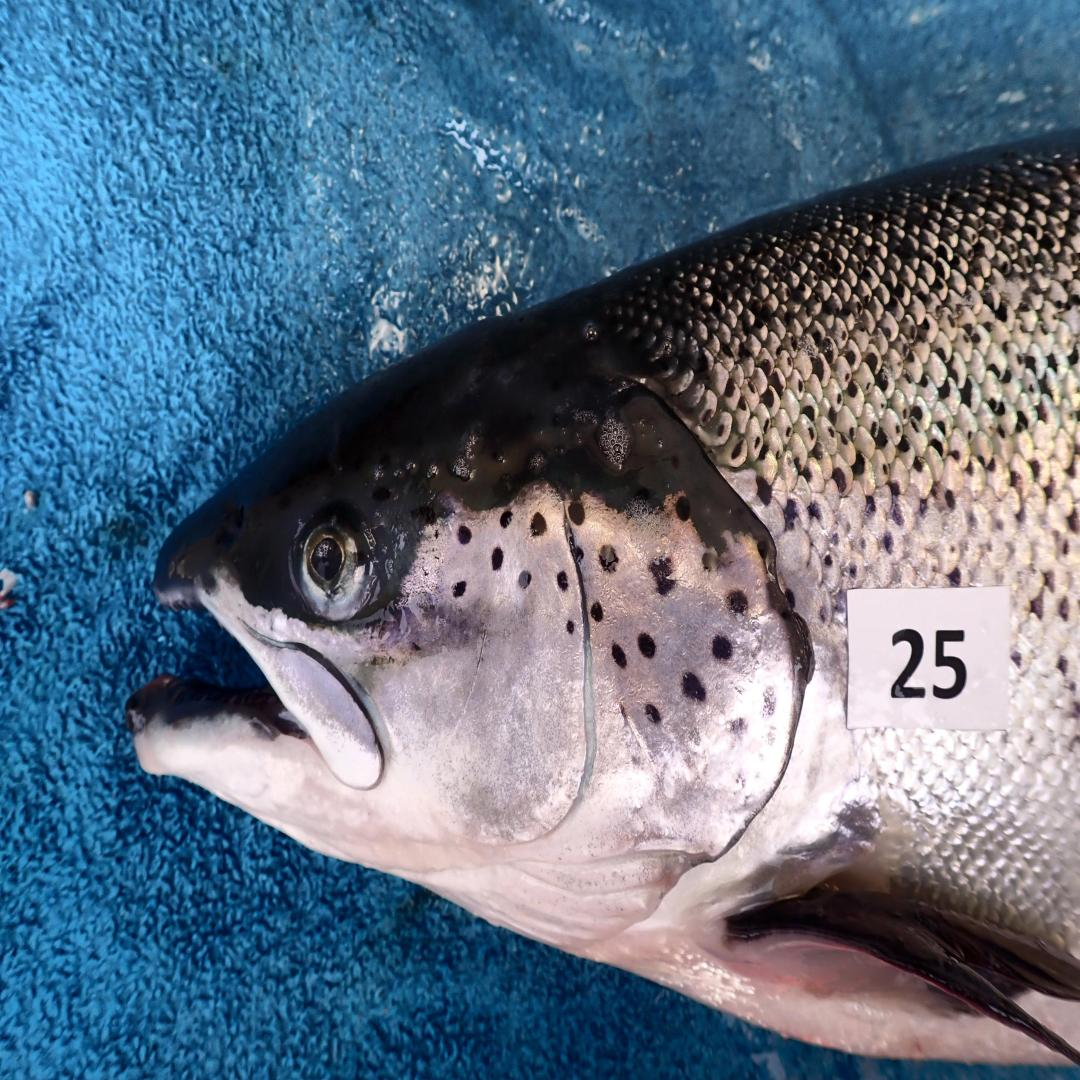spot: (650, 557, 675, 596), (681, 672, 707, 700), (701, 551, 732, 569), (713, 636, 732, 661), (637, 633, 656, 658), (599, 546, 618, 571), (728, 591, 749, 613), (567, 501, 584, 526), (764, 686, 776, 717), (532, 512, 546, 537), (612, 644, 626, 667), (645, 703, 660, 723), (491, 548, 504, 571), (729, 718, 744, 737), (500, 509, 513, 529), (591, 602, 603, 622), (458, 526, 470, 546), (519, 571, 532, 588), (557, 571, 567, 591), (454, 582, 466, 596), (576, 546, 584, 562), (567, 622, 574, 633)
